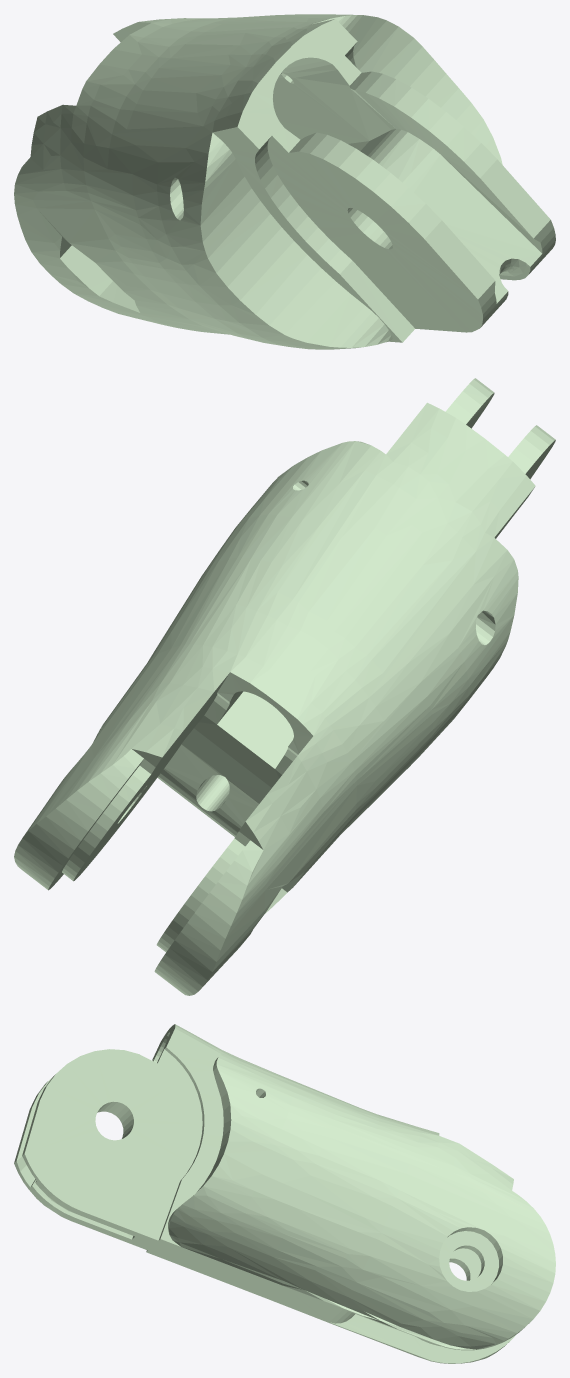
File: i02_rightHand_ringFingerPhal_visual.obj.balanced.glb
3 views of the same model, one above another, from view 1: azimuth 30°, elevation 25°; view 2: azimuth 150°, elevation 25°; view 3: azimuth 270°, elevation 25° (orthographic). The views are drawn at different scales.
Bounding box in the file's own units: 0.214 × 0.3231 × 0.5002.
